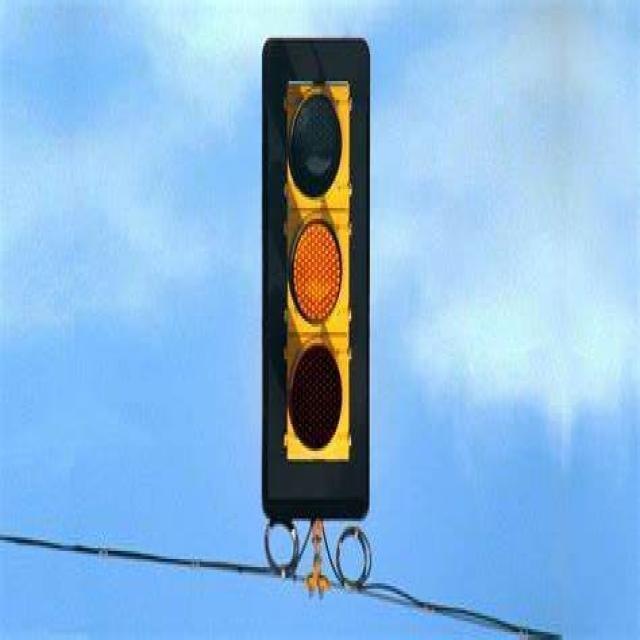yellow_light: (283, 82, 351, 462)
